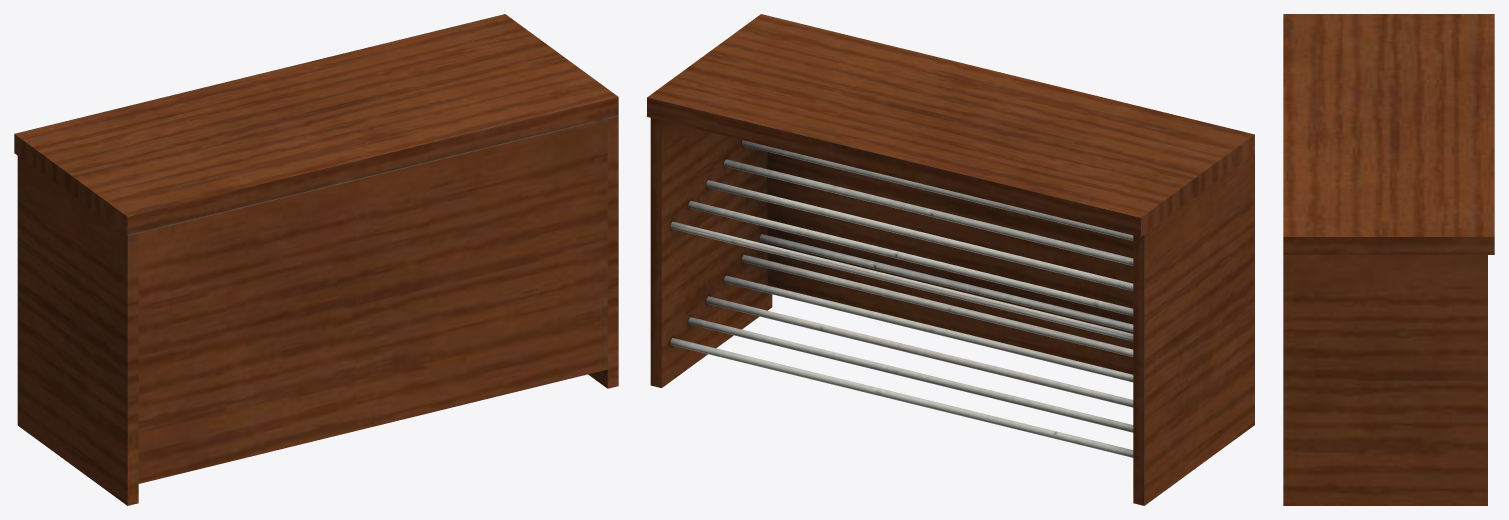
The model's file is hall_shoe_bench_lod1_web.glb.
The picture shows the model from 3 angles, left to right: view 1: azimuth 30°, elevation 25°; view 2: azimuth 150°, elevation 25°; view 3: azimuth 270°, elevation 25°; orthographic projection. The views are drawn at different scales.
Visible parts, largest first — view 1: HallShoeBench_Body; view 2: HallShoeBench_Body; view 3: HallShoeBench_Body.
Part boxes in pixels (x1=…): HallShoeBench_Body: x1=14, y1=14, x2=618, y2=505; HallShoeBench_Body: x1=647, y1=14, x2=1254, y2=505; HallShoeBench_Body: x1=1283, y1=14, x2=1494, y2=505.
Bounding box in the file's own units: 0.8 × 0.45 × 0.32.
Materials: 1 (1 with a texture image).
